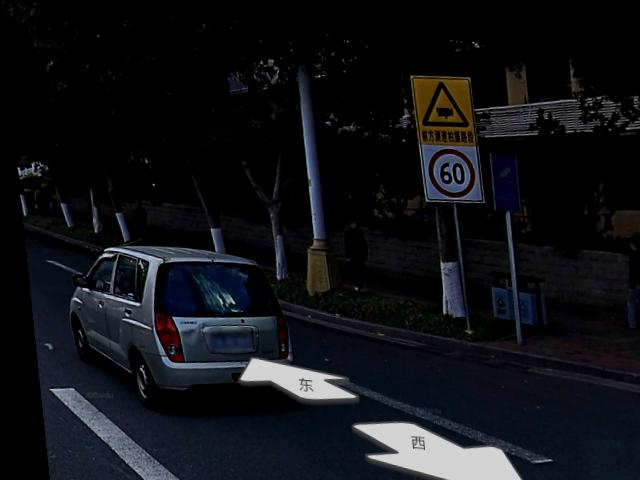limit60: (424, 139, 475, 190)
